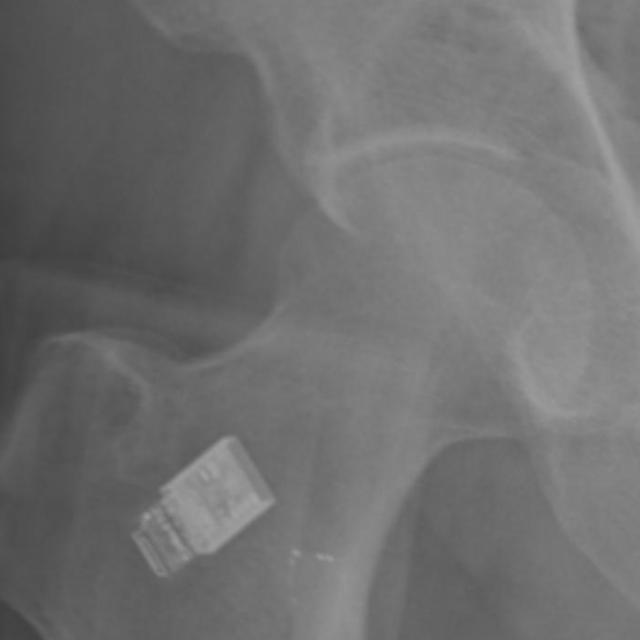Fitted_femural_head: (317, 158, 432, 317)
